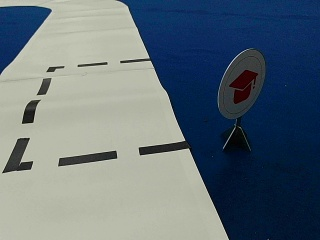school: (217, 49, 264, 118)
